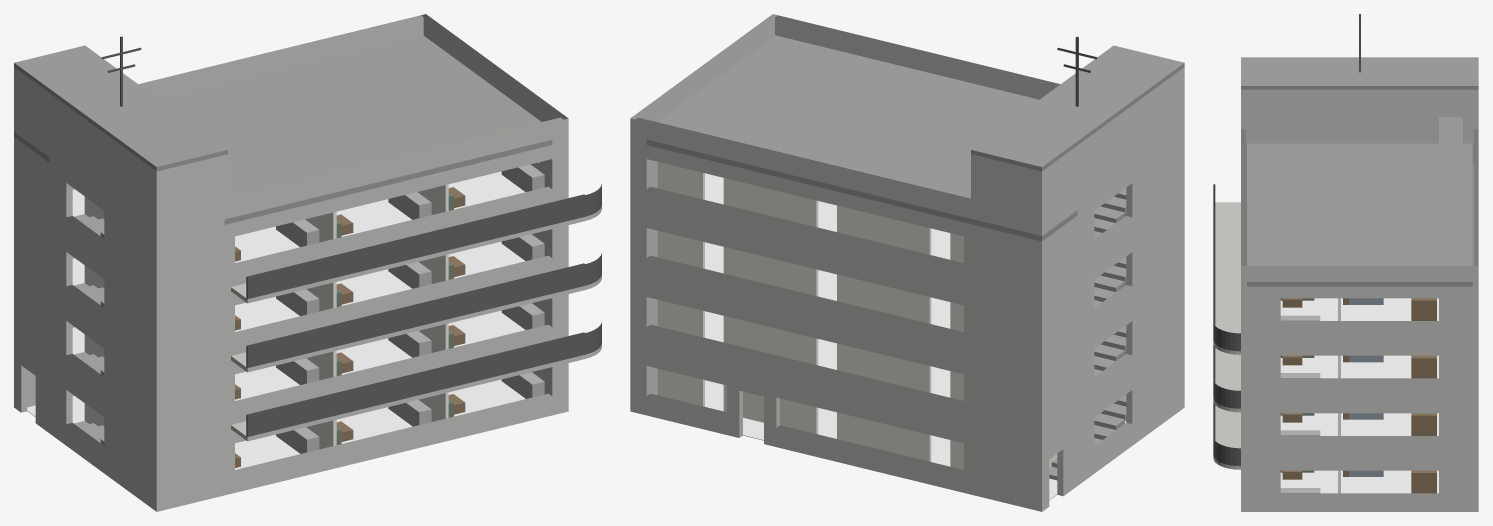
File: apartment.reveal-v1.lod0.glb
3 views of the same model, side by side, from view 1: azimuth 30°, elevation 25°; view 2: azimuth 150°, elevation 25°; view 3: azimuth 270°, elevation 25° (orthographic). The views are drawn at different scales.
Parts seen in each view (by area): view 1: apartment; view 2: apartment; view 3: apartment.
Part boxes in pixels (box(x1,y1,x2,y2)): apartment: box(14, 14, 601, 511); apartment: box(630, 14, 1184, 511); apartment: box(1213, 14, 1478, 511).
Size of the model in its own units: 21.4 by 19.22 by 13.4.
